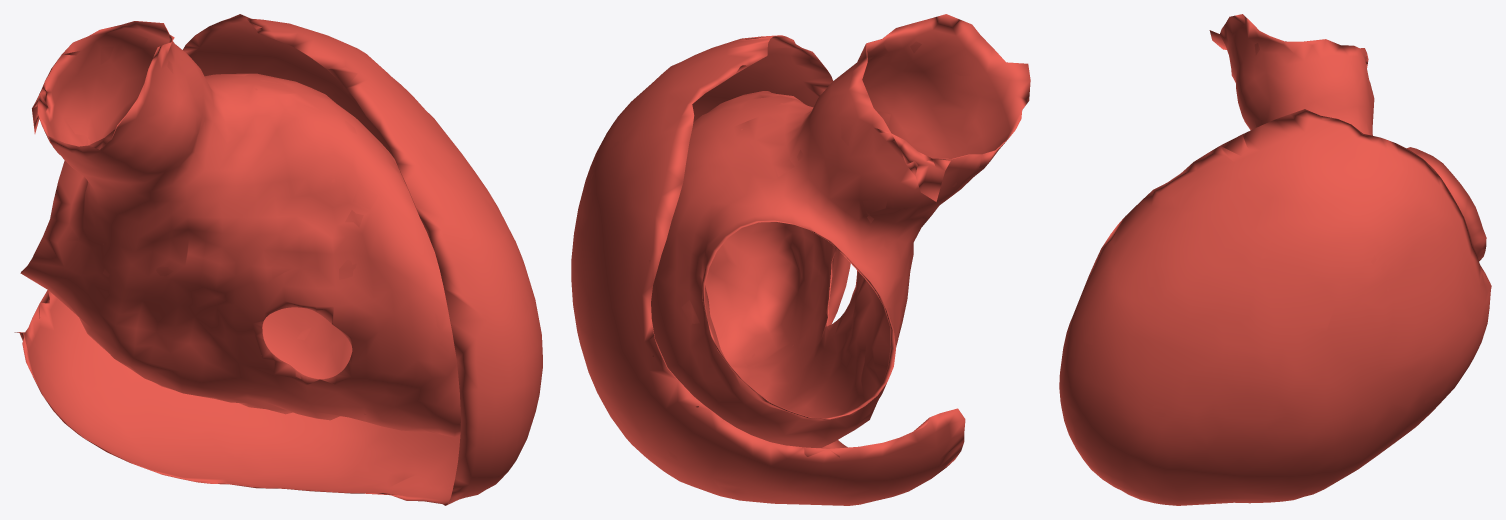
File: VSDleftven.gltf
3 views of the same model, side by side, from view 1: azimuth 30°, elevation 25°; view 2: azimuth 150°, elevation 25°; view 3: azimuth 270°, elevation 25° (orthographic). The views are drawn at different scales.
Parts seen in each view (by area): view 1: Leftventricle.009; view 2: Leftventricle.009; view 3: Leftventricle.009.
Part boxes in pixels (x1,y1,x2,y2): Leftventricle.009: [14, 14, 542, 505]; Leftventricle.009: [571, 14, 1030, 505]; Leftventricle.009: [1059, 14, 1491, 505].
Bounding box in the file's own units: 2.46 × 2.76 × 2.7.
